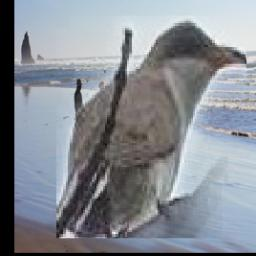Cuckoo: (57, 17, 247, 239)
